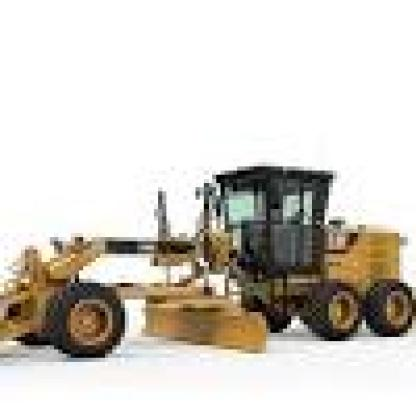bull_dozer/loader/grader: (0, 129, 412, 362)
